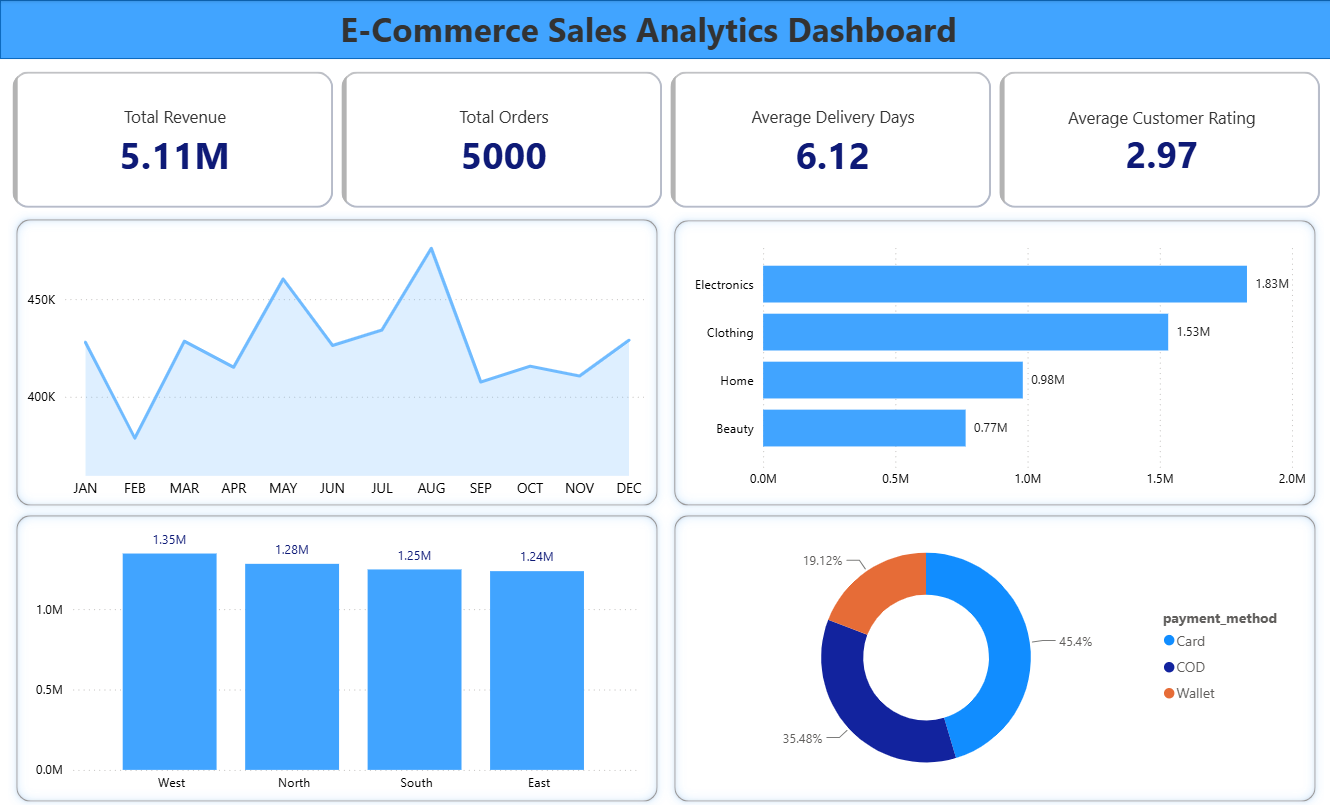

What the dashboard file says about the page in this screenshot:
{"tool":"powerbi","page":{"name":"Page 1","canvas":[1280,780],"ordinal":0},"visuals":[{"type":"cardVisual","fields":{"Data":["ec.Total Revenue","ec.Total Orders","ec.Average Delivery Days","ec.Average Customer Rating"]},"box":[0,56.7,1280,155.7],"z":0},{"type":"shape","box":[0,0,1280,56.7],"z":1000},{"type":"textbox","box":[247,0,761.1,56.7],"z":2000},{"type":"shape","box":[8,203,632,291],"z":3000},{"type":"lineChart","fields":{"Category":["ec.Order Month"],"Y":["Sum(ec.revenue)"]},"box":[21,217,607,270],"z":4000},{"type":"shape","box":[640,204,632,290],"z":5000},{"type":"barChart","fields":{"Category":["ec.product_category"],"Y":["Sum(ec.revenue)"]},"box":[657,224,603,254],"z":6000},{"type":"shape","box":[8,487,632,291],"z":6001},{"type":"shape","box":[640,487,632,291],"z":6002},{"type":"clusteredColumnChart","fields":{"Category":["ec.region"],"Y":["Sum(ec.revenue)"]},"box":[28.8,493.9,588.1,275.8],"z":6003},{"type":"donutChart","fields":{"Category":["ec.payment_method"],"Y":["ec.Total Orders"]},"box":[657.3,493.9,591,275.8],"z":6004}]}

Visuals, with their boxes in screenshot pixels (x1, y1, x2, y2), scaled from the page's 1280x780 canvas onto the 1330x805 screenshot:
cardVisual - ec.Total Revenue x ec.Total Orders: box=[0, 59, 1329, 219]
shape: box=[0, 0, 1329, 59]
textbox: box=[257, 0, 1047, 59]
shape: box=[8, 210, 665, 510]
lineChart - ec.Order Month x Sum(ec.revenue): box=[22, 224, 653, 503]
shape: box=[665, 211, 1322, 510]
barChart - ec.product_category x Sum(ec.revenue): box=[683, 231, 1309, 493]
shape: box=[8, 503, 665, 803]
shape: box=[665, 503, 1322, 803]
clusteredColumnChart - ec.region x Sum(ec.revenue): box=[30, 510, 641, 794]
donutChart - ec.payment_method x ec.Total Orders: box=[683, 510, 1297, 794]
